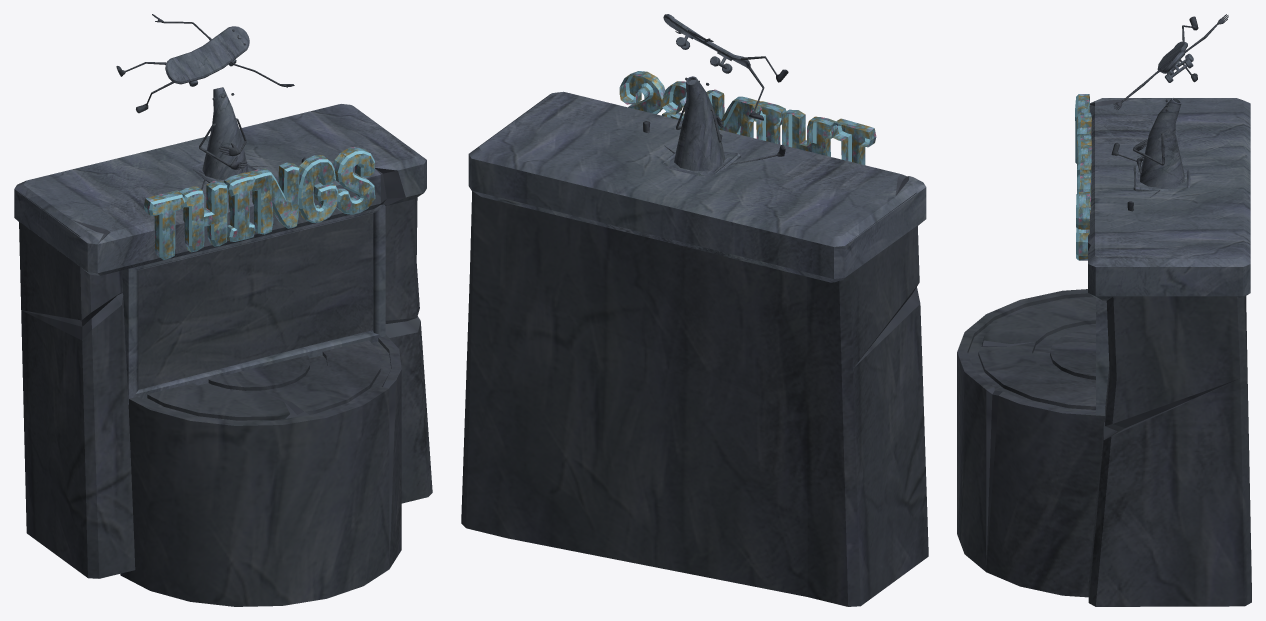
Rendered from StandThings01.glb.
The picture shows the model from 3 angles, left to right: view 1: azimuth 30°, elevation 25°; view 2: azimuth 150°, elevation 25°; view 3: azimuth 270°, elevation 25°; orthographic projection. The views are drawn at different scales.
Visible parts, largest first — view 1: StandThings01; view 2: StandThings01; view 3: StandThings01.
Boxes of the visible parts, x1,y1,x2,y2 form: StandThings01: (14, 14, 432, 606); StandThings01: (461, 14, 928, 606); StandThings01: (957, 14, 1251, 606).
Bounding box in the file's own units: 11.13 × 15.26 × 8.14.
1 material, 1 textured.
